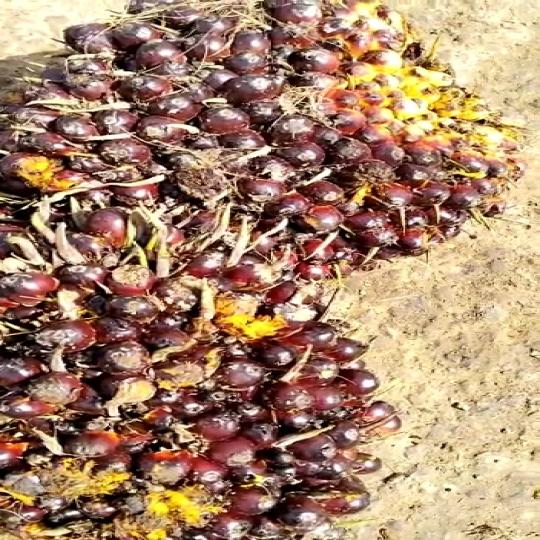kurang masak: (0, 0, 540, 280), (0, 247, 469, 540)
